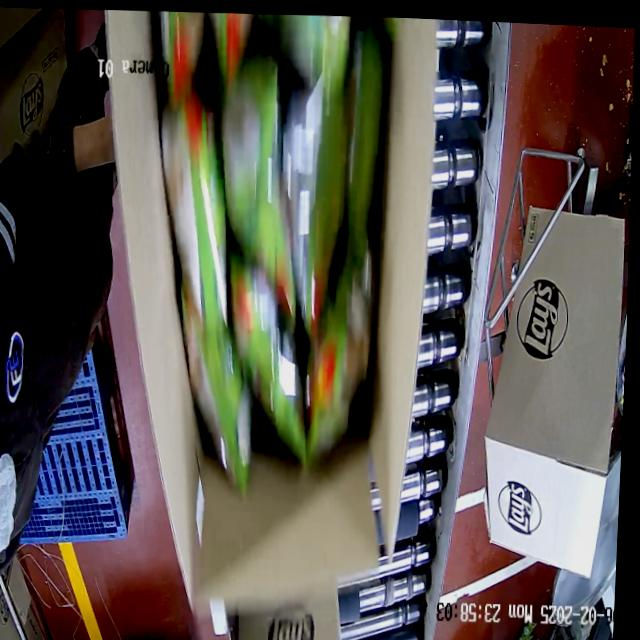YOGURT_HERB: (129, 7, 407, 473)
